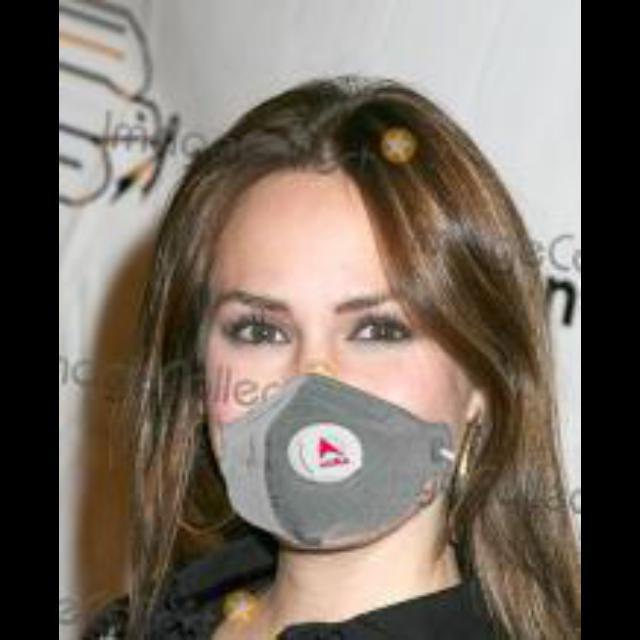suspicion: (178, 167, 506, 563)
